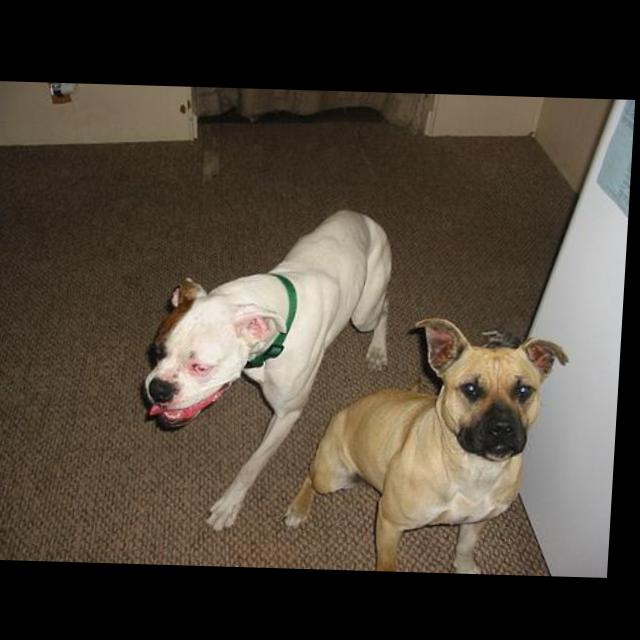amstaff: (142, 202, 402, 535), (288, 312, 577, 575)
